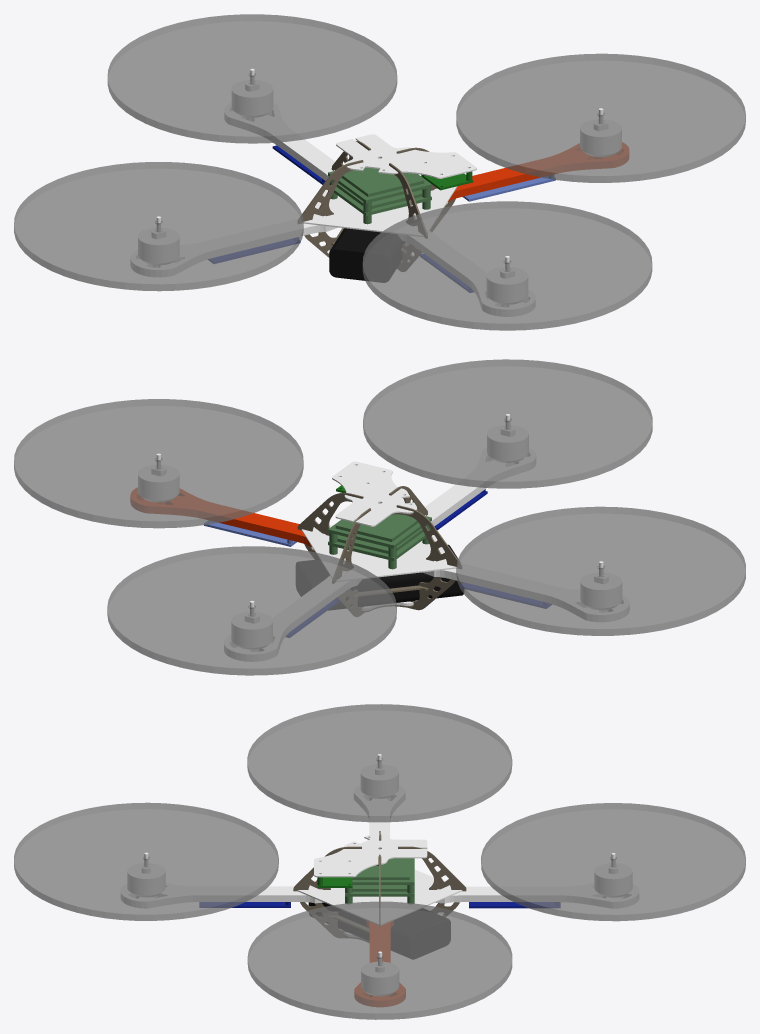
The model's file is hummingbird.dae.
3 views of the same model, one above another, from view 1: azimuth 30°, elevation 25°; view 2: azimuth 150°, elevation 25°; view 3: azimuth 270°, elevation 25° (orthographic). The views are drawn at different scales.
Parts seen in each view (by area): view 1: ShapeIndexedFaceSet_015, ShapeIndexedFaceSet_004, ShapeIndexedFaceSet_002, ShapeIndexedFaceSet_001, ShapeIndexedFaceSet_003, ShapeIndexedFaceSet_000, ShapeIndexedFaceSet_005; view 2: ShapeIndexedFaceSet_015, ShapeIndexedFaceSet_004, ShapeIndexedFaceSet_002, ShapeIndexedFaceSet_001, ShapeIndexedFaceSet_003, ShapeIndexedFaceSet_000, ShapeIndexedFaceSet_005; view 3: ShapeIndexedFaceSet_015, ShapeIndexedFaceSet_001, ShapeIndexedFaceSet_003, ShapeIndexedFaceSet_004, ShapeIndexedFaceSet_002, ShapeIndexedFaceSet_000.
Part boxes in pixels (x1,y1,x2,y2): ShapeIndexedFaceSet_015: (130,68,621,316); ShapeIndexedFaceSet_004: (362,201,652,330); ShapeIndexedFaceSet_002: (107,14,397,143); ShapeIndexedFaceSet_001: (456,53,745,182); ShapeIndexedFaceSet_003: (14,162,303,291); ShapeIndexedFaceSet_000: (448,142,628,201); ShapeIndexedFaceSet_005: (462,175,555,201); ShapeIndexedFaceSet_015: (138,414,629,661); ShapeIndexedFaceSet_004: (363,359,652,488); ShapeIndexedFaceSet_002: (107,546,396,675); ShapeIndexedFaceSet_001: (14,399,303,528); ShapeIndexedFaceSet_003: (456,506,745,635); ShapeIndexedFaceSet_000: (130,488,311,547); ShapeIndexedFaceSet_005: (204,521,296,546); ShapeIndexedFaceSet_015: (121,754,638,995); ShapeIndexedFaceSet_001: (247,901,512,1019); ShapeIndexedFaceSet_003: (247,704,512,822); ShapeIndexedFaceSet_004: (14,802,278,920); ShapeIndexedFaceSet_002: (481,803,745,921); ShapeIndexedFaceSet_000: (354,920,405,1006).
Bounding box in the file's own units: 0.5332 × 0.5332 × 0.0732.
